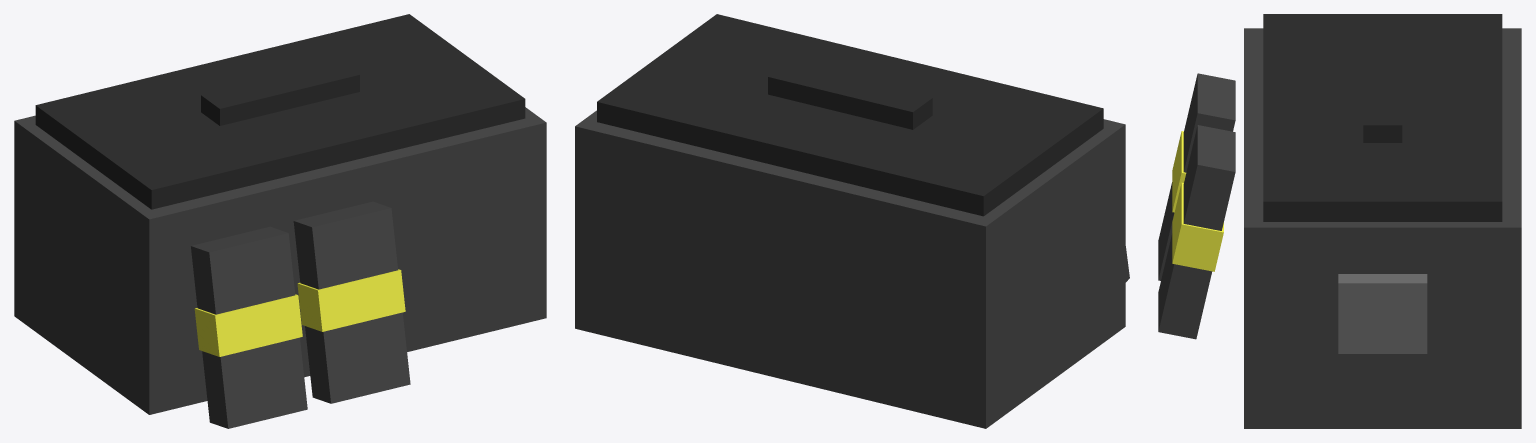
Rendered from ce_ammo_rifle_he_c.obj.
3 renders of one model, left to right at view 1: azimuth 30°, elevation 25°; view 2: azimuth 150°, elevation 25°; view 3: azimuth 270°, elevation 25°, orthographic. The views are drawn at different scales.
Visible parts, largest first — view 1: ce_ammo_rifle_he_c_0, ce_ammo_rifle_he_c_1, ce_ammo_rifle_he_c_4, ce_ammo_rifle_he_c_6, ce_ammo_rifle_he_c_2, ce_ammo_rifle_he_c_7, ce_ammo_rifle_he_c_5; view 2: ce_ammo_rifle_he_c_0, ce_ammo_rifle_he_c_1, ce_ammo_rifle_he_c_2; view 3: ce_ammo_rifle_he_c_0, ce_ammo_rifle_he_c_1, ce_ammo_rifle_he_c_6, ce_ammo_rifle_he_c_3, ce_ammo_rifle_he_c_4, ce_ammo_rifle_he_c_2, ce_ammo_rifle_he_c_7, ce_ammo_rifle_he_c_5.
Boxes of the visible parts, x1,y1,x2,y2 form: ce_ammo_rifle_he_c_0: (14, 107, 546, 414); ce_ammo_rifle_he_c_1: (35, 14, 525, 209); ce_ammo_rifle_he_c_4: (191, 226, 307, 428); ce_ammo_rifle_he_c_6: (293, 201, 410, 403); ce_ammo_rifle_he_c_2: (201, 61, 359, 125); ce_ammo_rifle_he_c_7: (297, 269, 405, 331); ce_ammo_rifle_he_c_5: (194, 294, 302, 356); ce_ammo_rifle_he_c_0: (575, 110, 1125, 428); ce_ammo_rifle_he_c_1: (597, 14, 1103, 216); ce_ammo_rifle_he_c_2: (768, 62, 932, 129); ce_ammo_rifle_he_c_0: (1244, 28, 1521, 428); ce_ammo_rifle_he_c_1: (1263, 14, 1502, 221); ce_ammo_rifle_he_c_6: (1158, 125, 1235, 339); ce_ammo_rifle_he_c_3: (1338, 274, 1427, 353); ce_ammo_rifle_he_c_4: (1158, 73, 1235, 280); ce_ammo_rifle_he_c_2: (1363, 55, 1402, 142); ce_ammo_rifle_he_c_7: (1172, 182, 1223, 271); ce_ammo_rifle_he_c_5: (1172, 131, 1186, 212).
Bounding box in the file's own units: 0.89 × 0.475 × 0.6542.
